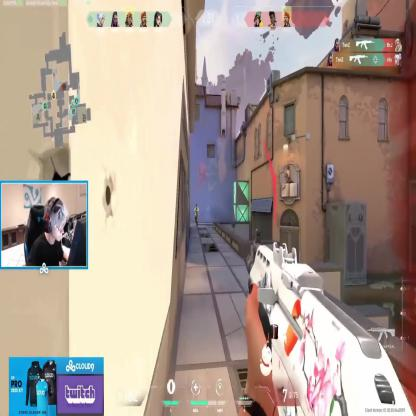enemy: (194, 203, 198, 227)
enemy_head: (196, 204, 198, 208)
